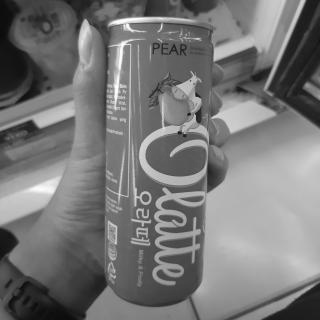alumunium_can: (92, 8, 233, 318)
